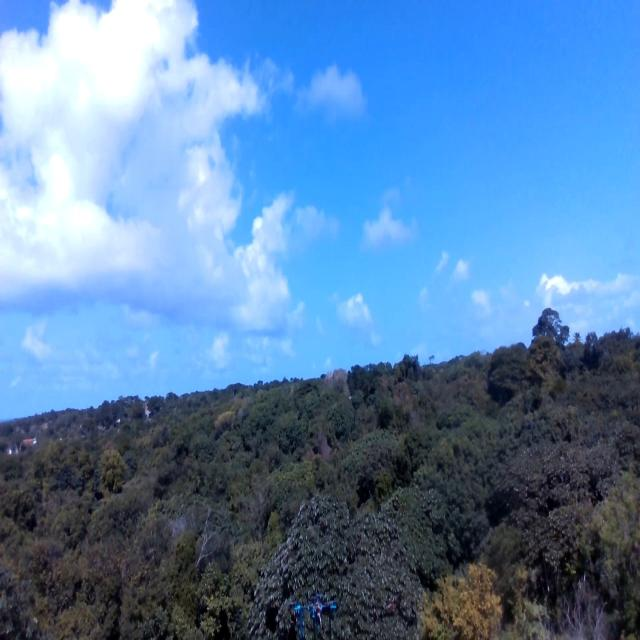-uav-: (289, 592, 347, 640)
